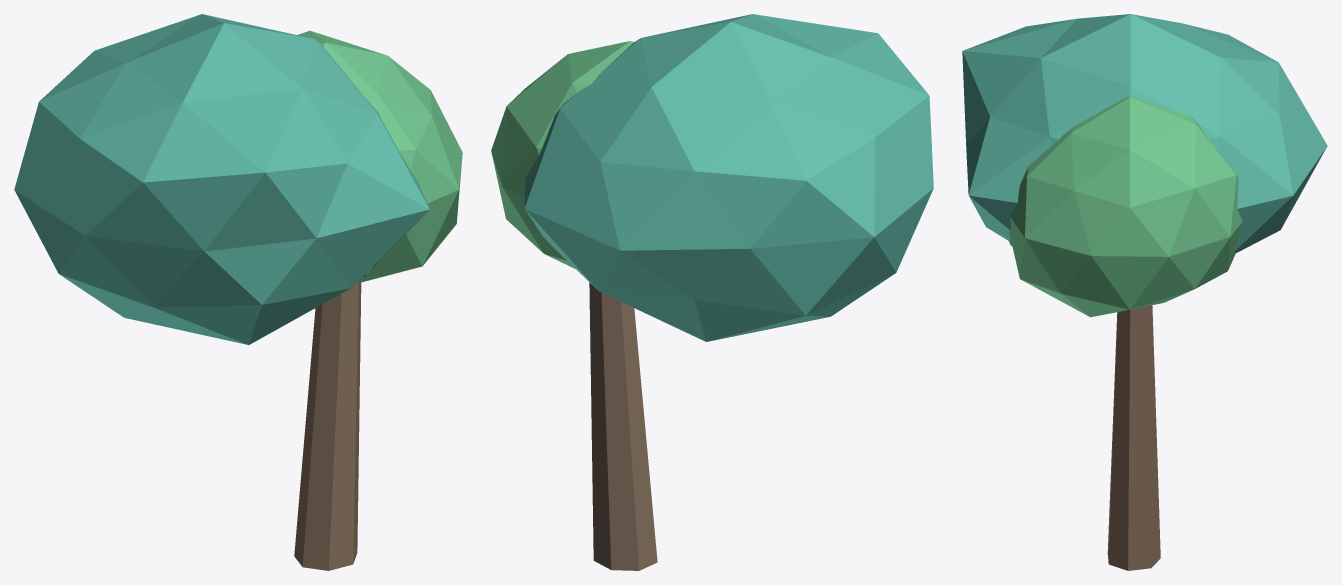
Rendered from Sapling_B.glb.
The picture shows the model from 3 angles, left to right: view 1: azimuth 30°, elevation 25°; view 2: azimuth 150°, elevation 25°; view 3: azimuth 270°, elevation 25°; orthographic projection. The views are drawn at different scales.
Visible parts, largest first — view 1: Sapling_B; view 2: Sapling_B; view 3: Sapling_B.
Part boxes in pixels (left/top/right/bottom): Sapling_B: left=14, top=14, right=462, bottom=570; Sapling_B: left=491, top=14, right=933, bottom=570; Sapling_B: left=962, top=14, right=1327, bottom=570.
Bounding box in the file's own units: 2.12 × 2.87 × 1.9.
